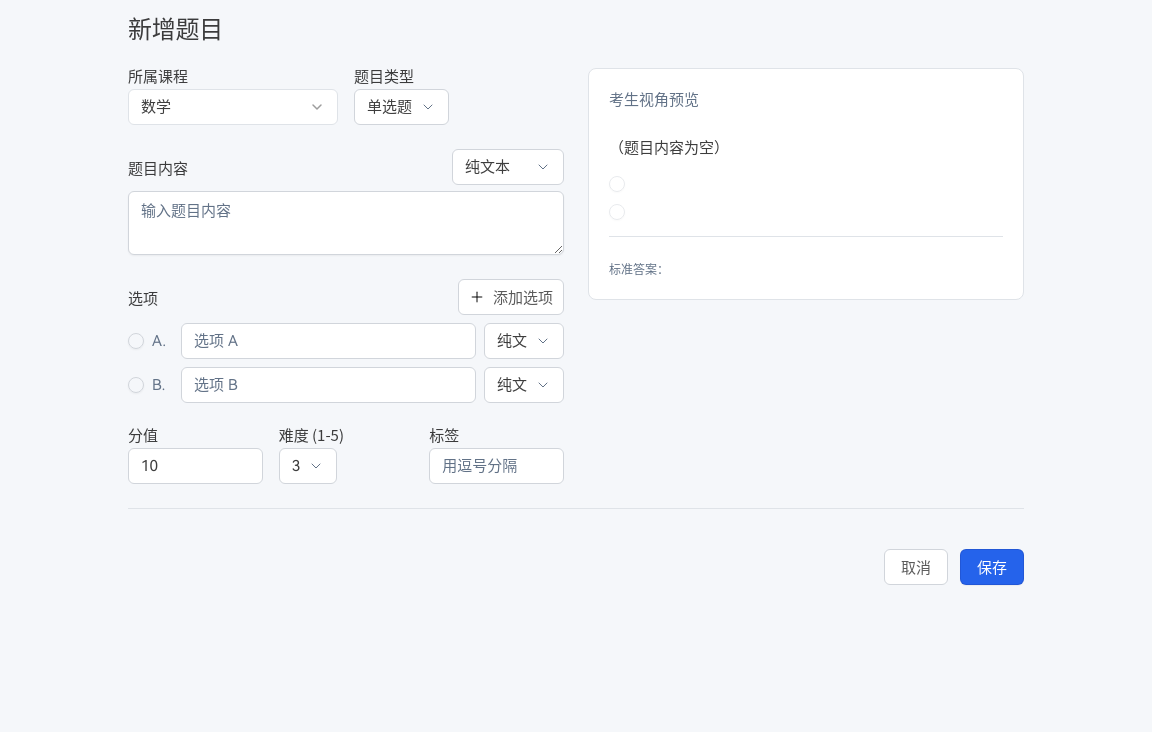
QuestionEditPage — text_response authoring › renders text_response option and shows rubric control when selected
The width and height of the screenshot is (1152, 732).
Click the dropdown named "题目类型": (402, 107) [354, 89, 449, 125]
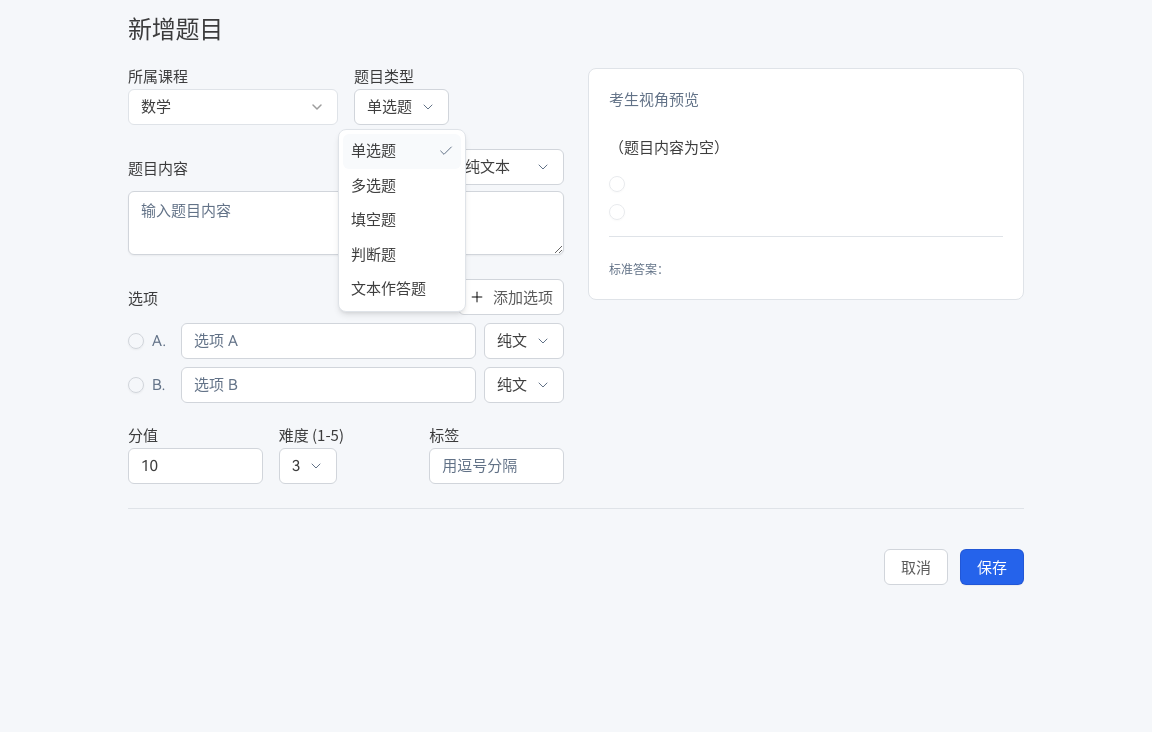
Click the option "文本作答题": (388, 289) [351, 280, 426, 298]
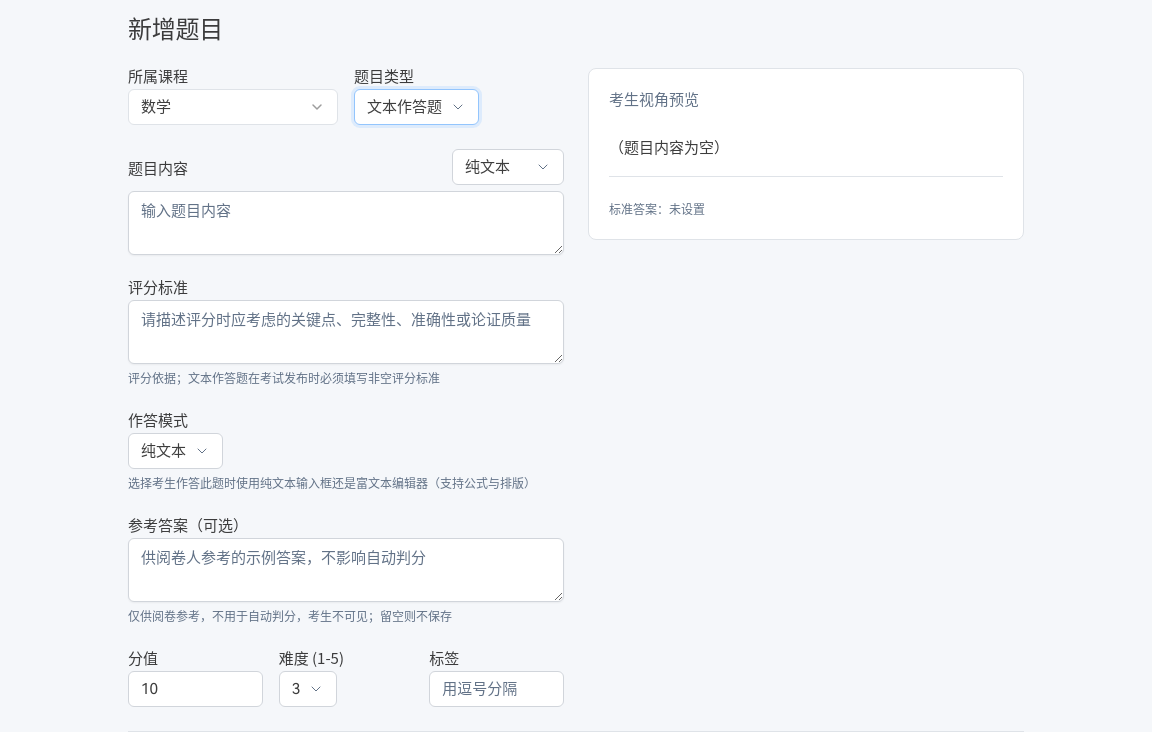
Now the text box with placeholder "请描述评分时应考虑的关键点、完整性、准确性或论证质量" is shown, box [128, 300, 564, 364]
Now the text "选项" is gone
